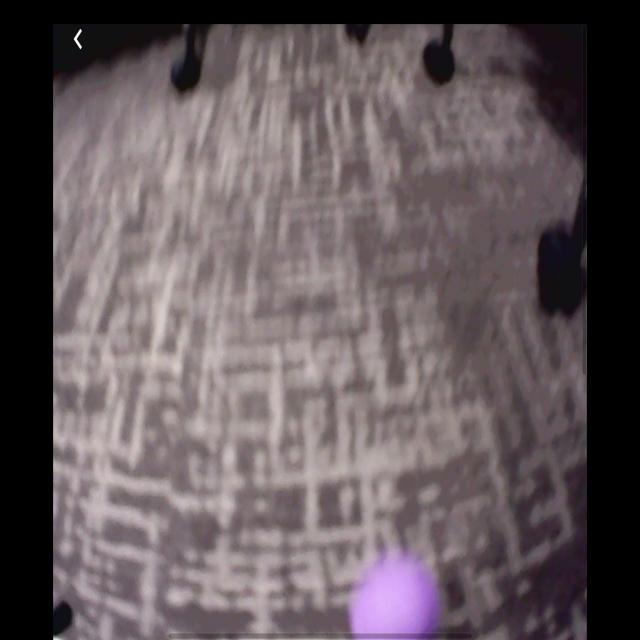ball: (350, 554, 441, 640)
